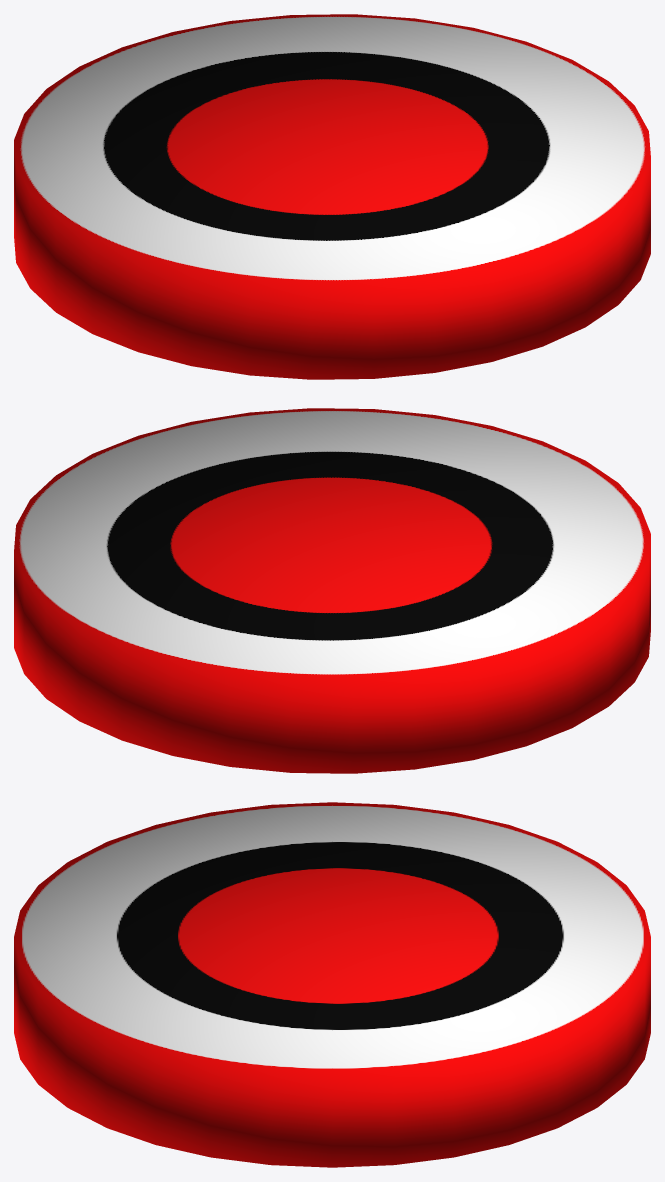
The model's file is target.fbx.
3 views of the same model, one above another, from view 1: azimuth 30°, elevation 25°; view 2: azimuth 150°, elevation 25°; view 3: azimuth 270°, elevation 25° (orthographic).
Visible parts, largest first — view 1: Cylinder; view 2: Cylinder; view 3: Cylinder.
Boxes of the visible parts, bbox=[...] form: Cylinder: bbox=[14, 14, 650, 379]; Cylinder: bbox=[14, 408, 650, 773]; Cylinder: bbox=[14, 802, 650, 1167].
Bounding box in the file's own units: 6 × 1 × 6.
1 material, 1 textured.
